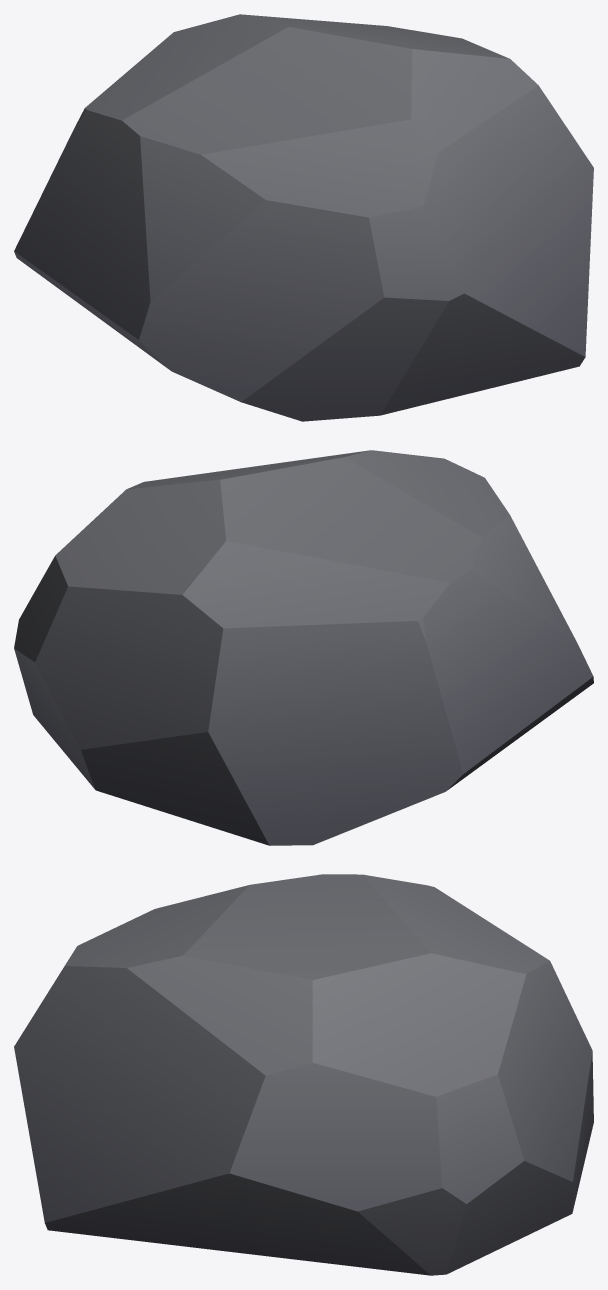
Rendered from Rock_05.fbx.
3 renders of one model, top to bottom at view 1: azimuth 30°, elevation 25°; view 2: azimuth 150°, elevation 25°; view 3: azimuth 270°, elevation 25°, orthographic. The views are drawn at different scales.
Visible parts, largest first — view 1: Rock_05_LOD0; view 2: Rock_05_LOD0; view 3: Rock_05_LOD0.
Part boxes in pixels (left/top/right/bottom): Rock_05_LOD0: left=14, top=14, right=593, bottom=421; Rock_05_LOD0: left=14, top=450, right=593, bottom=845; Rock_05_LOD0: left=14, top=874, right=593, bottom=1275.
Size of what is drawn, in the model's own units: 0.9224 by 0.4245 by 0.9431.
